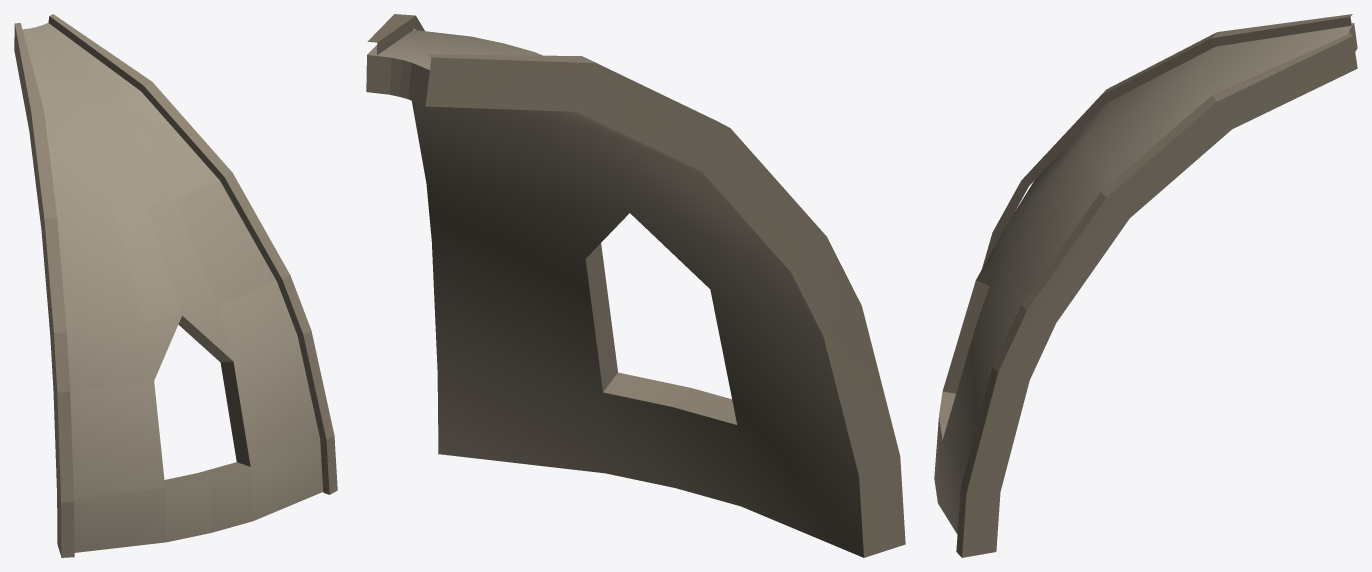
The model's file is dome.panel_8_window.stone.glb.
The picture shows the model from 3 angles, left to right: view 1: azimuth 30°, elevation 25°; view 2: azimuth 150°, elevation 25°; view 3: azimuth 270°, elevation 25°; orthographic projection. The views are drawn at different scales.
Visible parts, largest first — view 1: dome_panel_8_window_stone; view 2: dome_panel_8_window_stone; view 3: dome_panel_8_window_stone.
Boxes of the visible parts, x1,y1,x2,y2 form: dome_panel_8_window_stone: (14, 14, 337, 557); dome_panel_8_window_stone: (366, 14, 905, 557); dome_panel_8_window_stone: (934, 14, 1357, 557).
Size of what is drawn, in the model's own units: 2.73 by 3.63 by 3.08.
